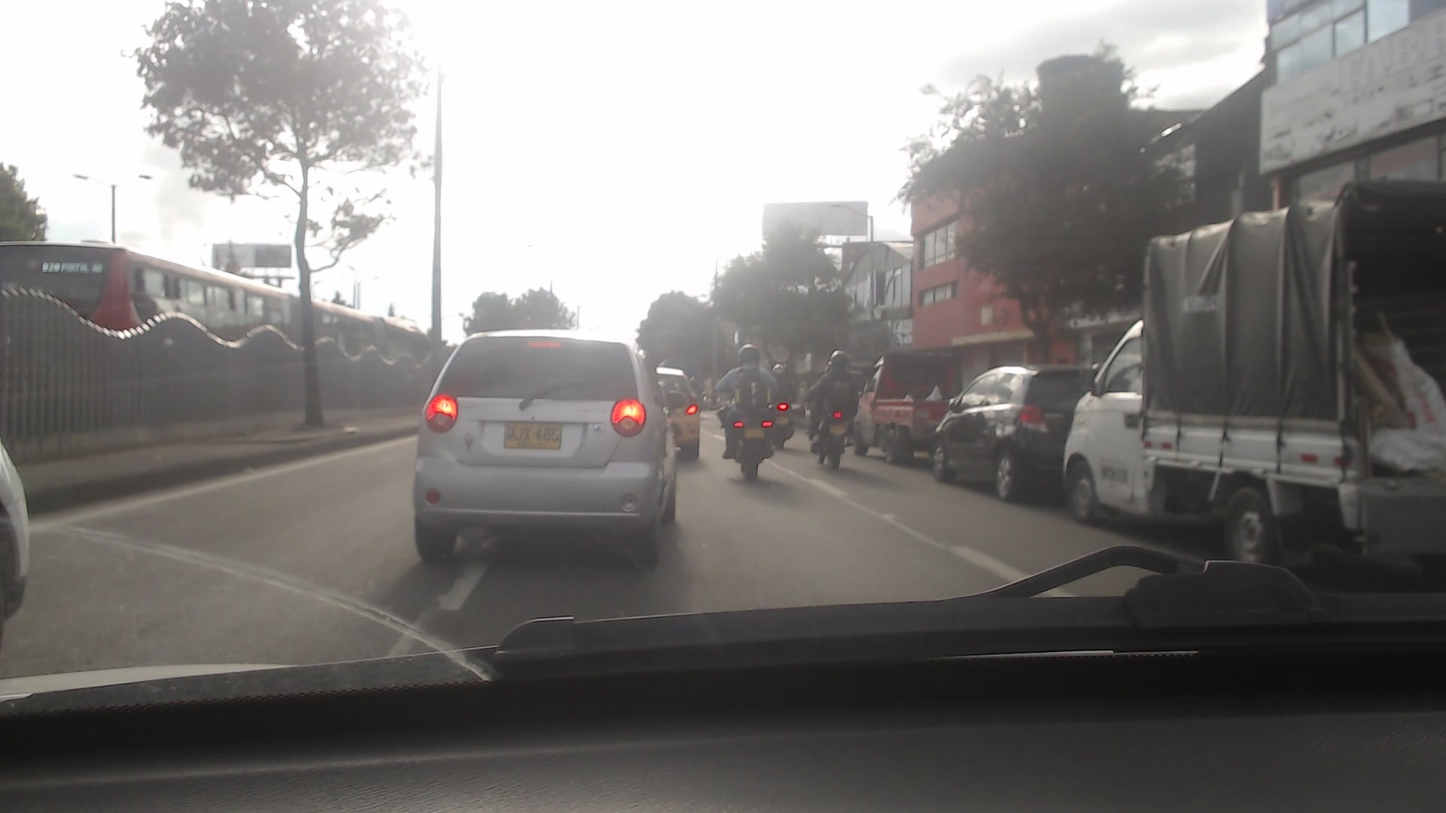car: (411, 327, 680, 570), (935, 365, 1078, 501), (856, 350, 958, 461)
motorcycle: (714, 410, 782, 483), (801, 401, 854, 474), (768, 398, 798, 444)
person: (715, 335, 776, 449), (812, 347, 856, 438), (768, 361, 797, 426)
truck: (1063, 196, 1446, 578)
